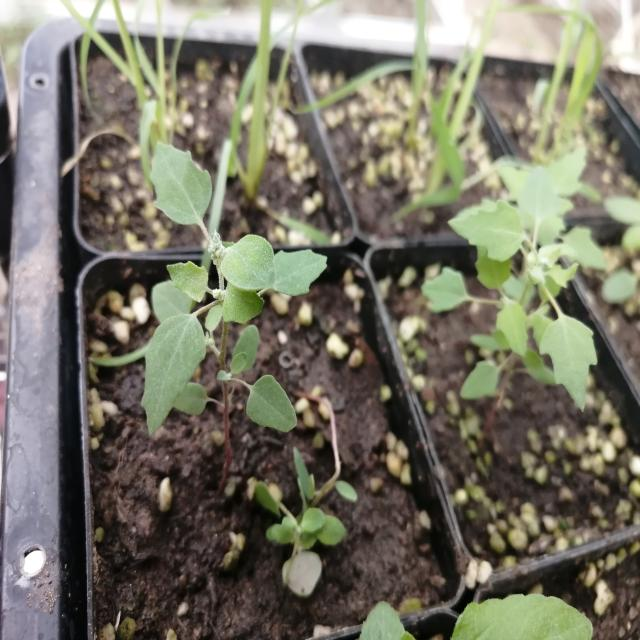goosefoots: (432, 154, 613, 464), (138, 149, 329, 442)
